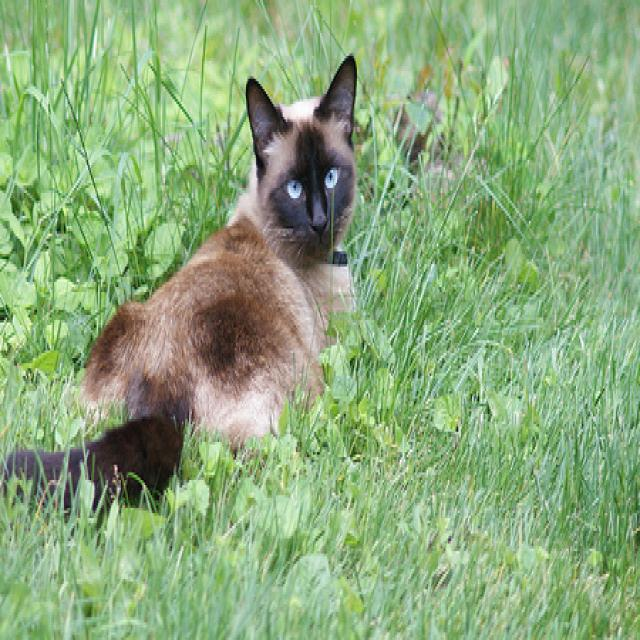Siamese: (1, 50, 362, 532)
